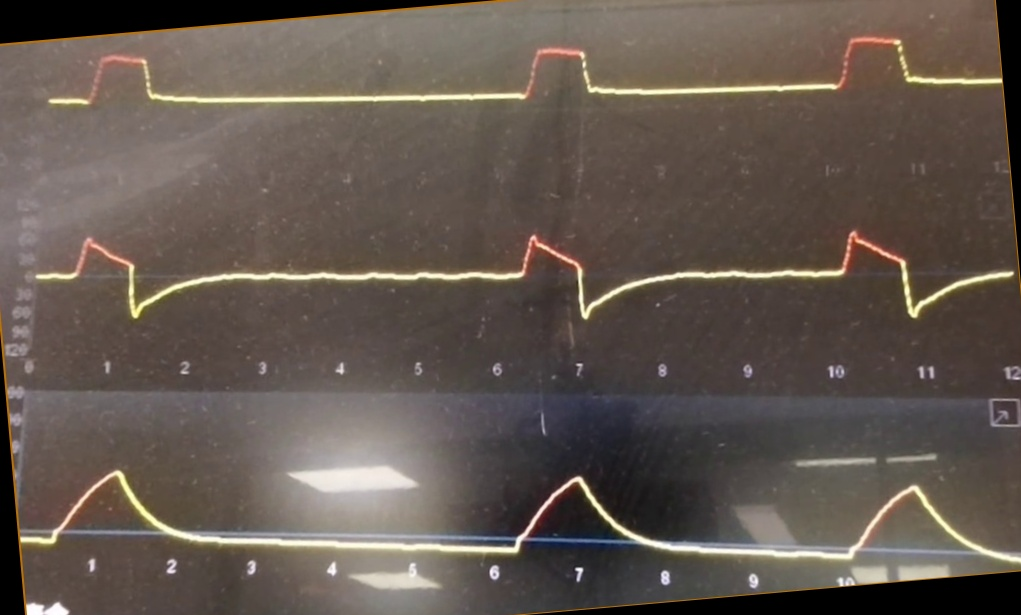Normal Flow: (36, 212, 1012, 342)
Normal Volume: (24, 437, 1019, 565)
